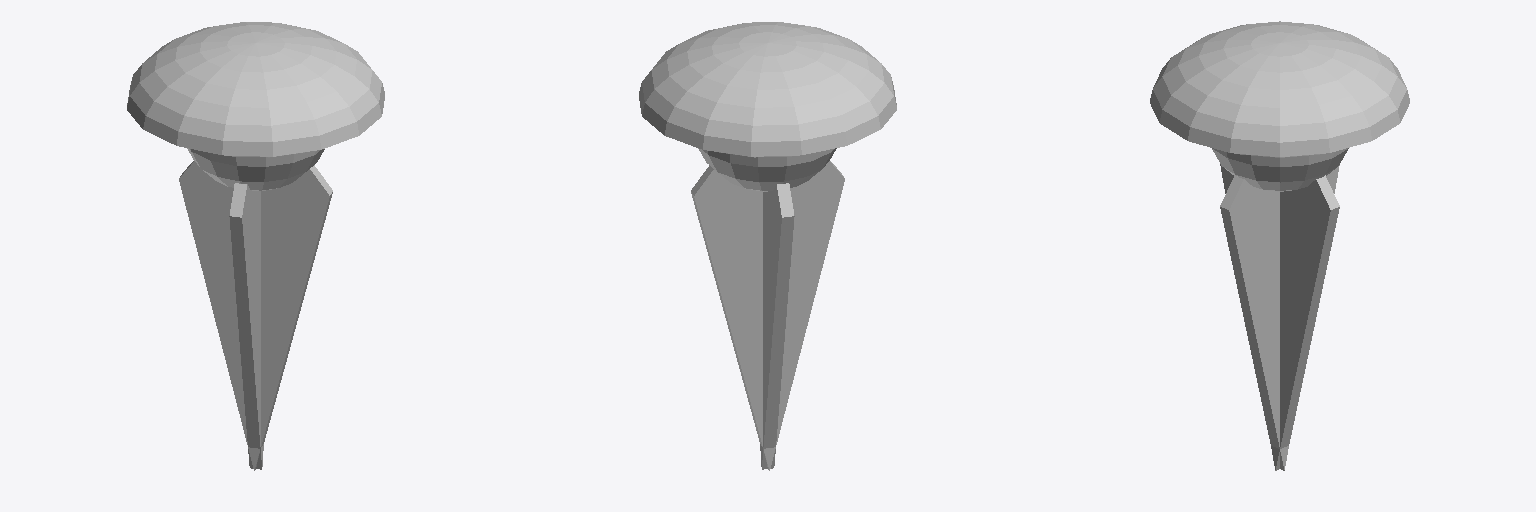
The model's file is LANCEUR_LOW.obj.
The picture shows the model from 3 angles: view 1: azimuth 30°, elevation 25°; view 2: azimuth 150°, elevation 25°; view 3: azimuth 270°, elevation 25°; orthographic projection.
Visible parts, largest first — view 1: lanceur_chapeau_LOW001; view 2: lanceur_chapeau_LOW001; view 3: lanceur_chapeau_LOW001.
Boxes of the visible parts, x1,y1,x2,y2 form: lanceur_chapeau_LOW001: [127, 22, 384, 470]; lanceur_chapeau_LOW001: [639, 22, 896, 470]; lanceur_chapeau_LOW001: [1150, 21, 1409, 470].
Size of the model in its own units: 143 by 257 by 143.